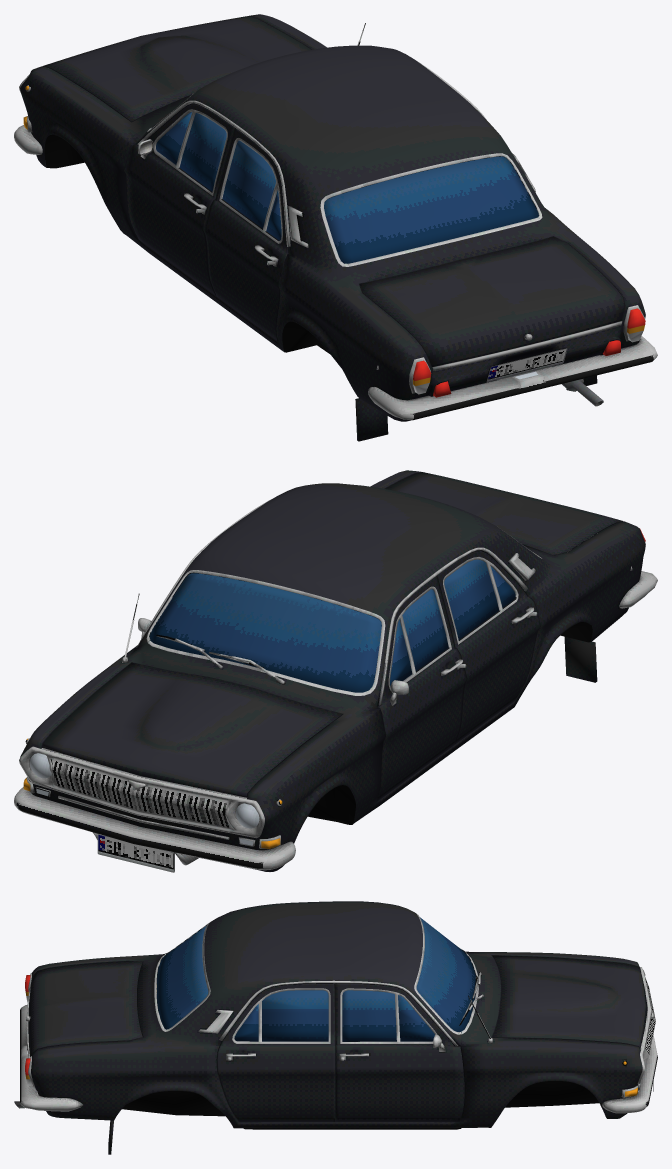
The model's file is gaz_24_24_volga_chassis.glb.
3 views of the same model, one above another, from view 1: azimuth 30°, elevation 25°; view 2: azimuth 150°, elevation 25°; view 3: azimuth 270°, elevation 25° (orthographic). The views are drawn at different scales.
Parts seen in each view (by area): view 1: GAZ24Volga_Exterior; view 2: GAZ24Volga_Exterior; view 3: GAZ24Volga_Exterior.
Boxes of the visible parts, <box> form: GAZ24Volga_Exterior: <box>14,14,657,441</box>; GAZ24Volga_Exterior: <box>14,470,657,872</box>; GAZ24Volga_Exterior: <box>14,901,657,1154</box>.
Bounding box in the file's own units: 1.84 × 1.45 × 4.76.
2 materials, 2 textured.
